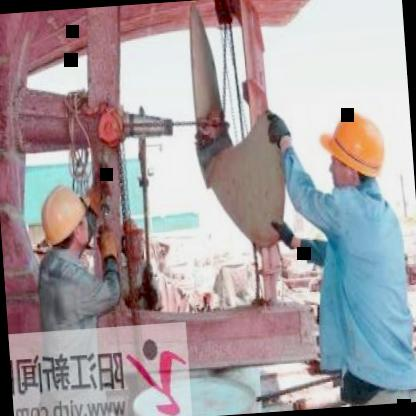helmet: (318, 100, 390, 198), (36, 179, 90, 260), (118, 214, 149, 262)
